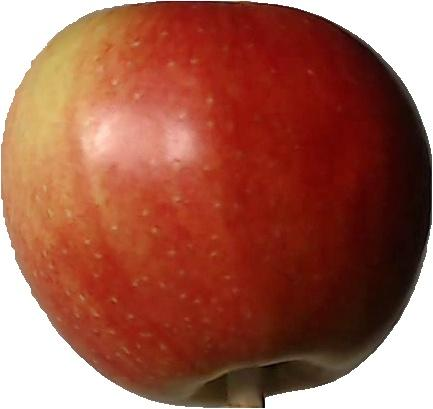Apple Ripe: (0, 2, 432, 409)
